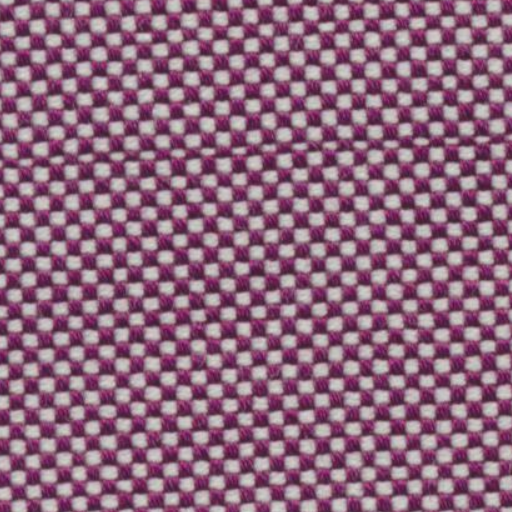TuoSha: (26, 124, 502, 190)
